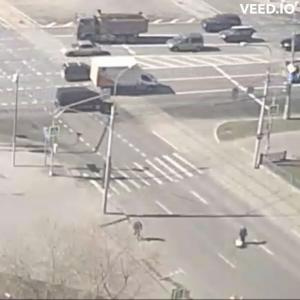car: (77, 12, 148, 46), (54, 85, 111, 115), (114, 71, 177, 98), (58, 60, 99, 83), (220, 25, 264, 46), (166, 35, 212, 55), (201, 16, 242, 35), (69, 44, 112, 57), (280, 34, 300, 53)
